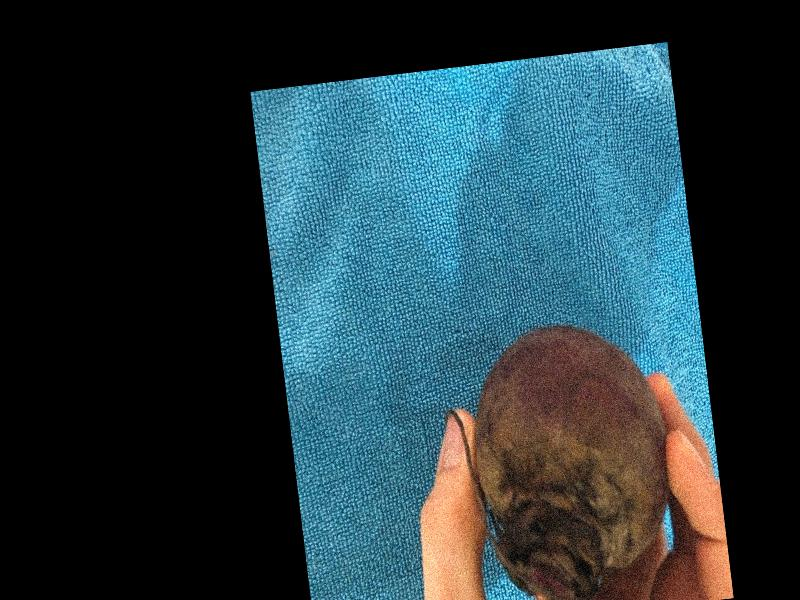Beet: (436, 314, 685, 600)
